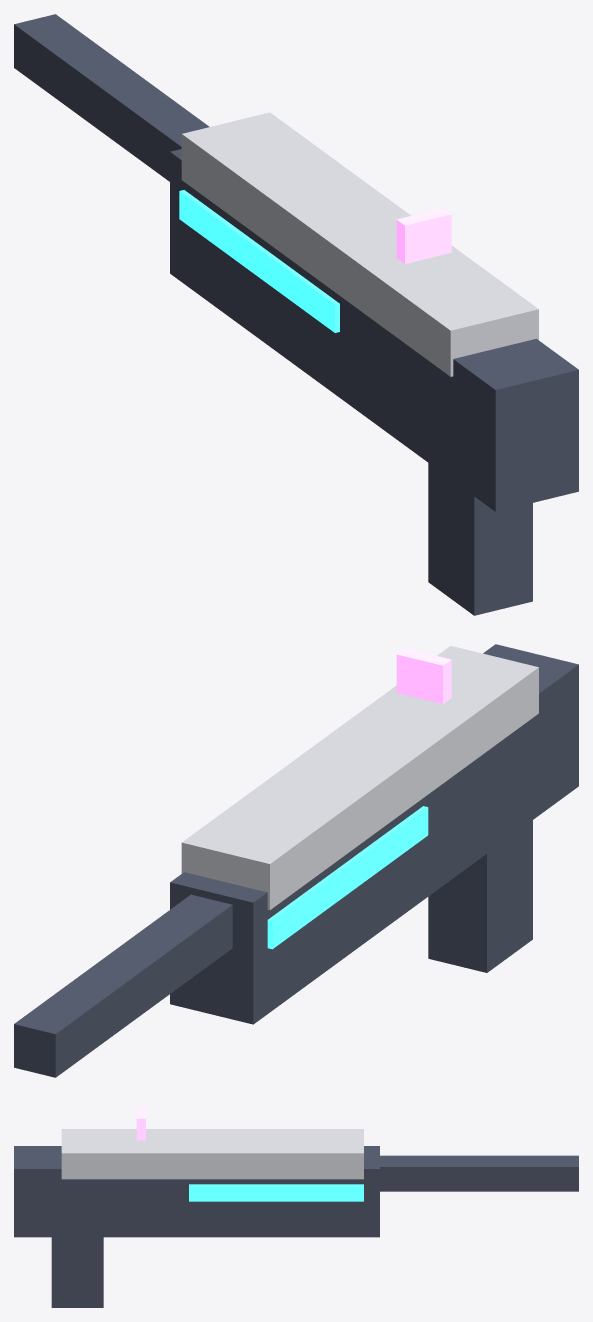
Rendered from pulse_marker_vx1.glb.
3 renders of one model, top to bottom at view 1: azimuth 30°, elevation 25°; view 2: azimuth 150°, elevation 25°; view 3: azimuth 270°, elevation 25°, orthographic. The views are drawn at different scales.
Visible parts, largest first — view 1: PulseMarkerRifle; view 2: PulseMarkerRifle; view 3: PulseMarkerRifle.
Boxes of the visible parts, x1,y1,x2,y2 form: PulseMarkerRifle: [14, 14, 578, 615]; PulseMarkerRifle: [14, 644, 578, 1077]; PulseMarkerRifle: [14, 1106, 578, 1307].
Size of the model in its own units: 0.076 by 0.26 by 0.71.
